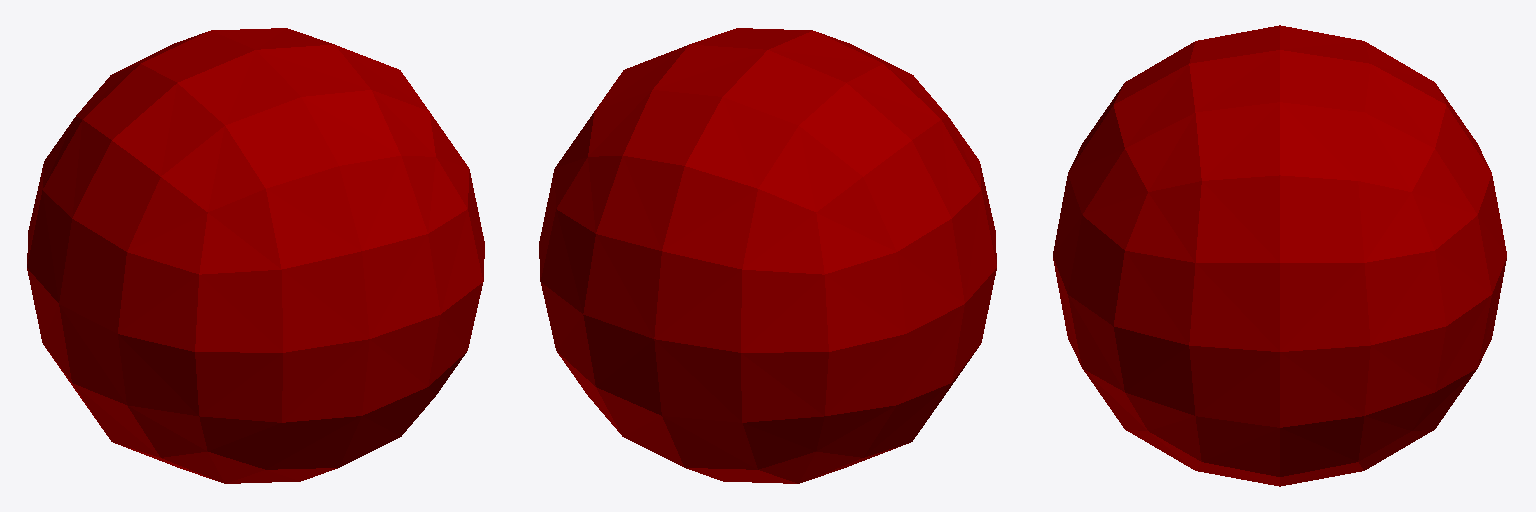
The model's file is lava-bubble.obj.
3 views of the same model, side by side, from view 1: azimuth 30°, elevation 25°; view 2: azimuth 150°, elevation 25°; view 3: azimuth 270°, elevation 25° (orthographic).
Visible parts, largest first — view 1: Cube.009_Cube.4123; view 2: Cube.009_Cube.4123; view 3: Cube.009_Cube.4123.
Boxes of the visible parts, box(x1,y1,x2,y2) form: Cube.009_Cube.4123: box(27, 28, 484, 483); Cube.009_Cube.4123: box(539, 28, 996, 483); Cube.009_Cube.4123: box(1053, 25, 1506, 486).
Bounding box in the file's own units: 0.8785 × 0.8785 × 0.8785.